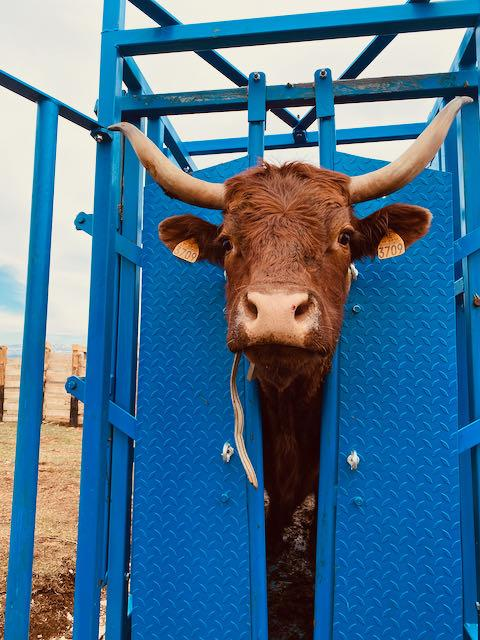muzzles: (222, 288, 339, 357)
